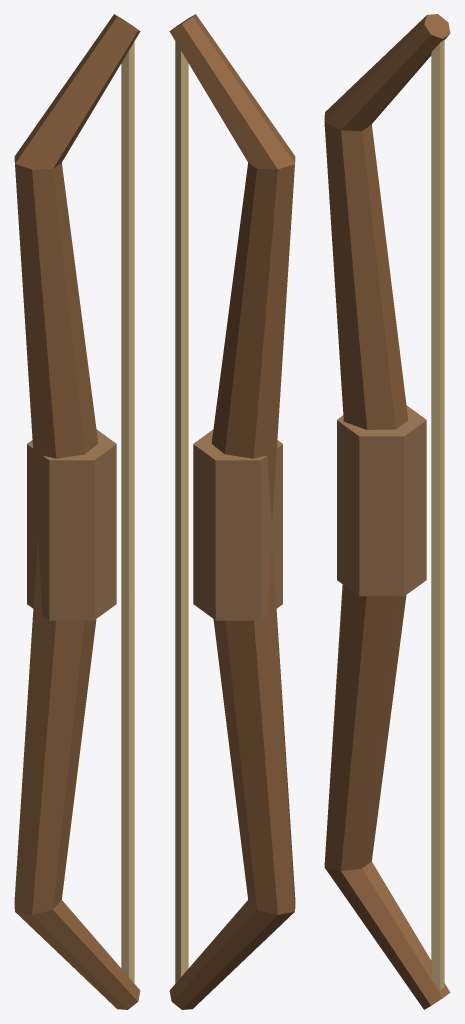
File: bow.glb
The picture shows the model from 3 angles, left to right: view 1: azimuth 30°, elevation 25°; view 2: azimuth 150°, elevation 25°; view 3: azimuth 330°, elevation 25°; orthographic projection.
Parts seen in each view (by area): view 1: bow; view 2: bow; view 3: bow.
Boxes of the visible parts, x1,y1,x2,y2 form: bow: (14,14,140,1009); bow: (169,14,295,1009); bow: (324,14,450,1009).
Bounding box in the file's own units: 0.1751 × 1.36 × 0.112.
